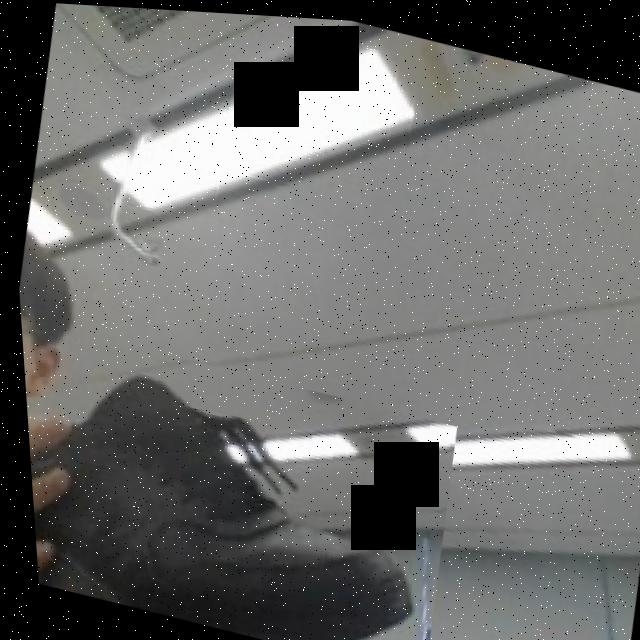shoe: (17, 317, 464, 640)
